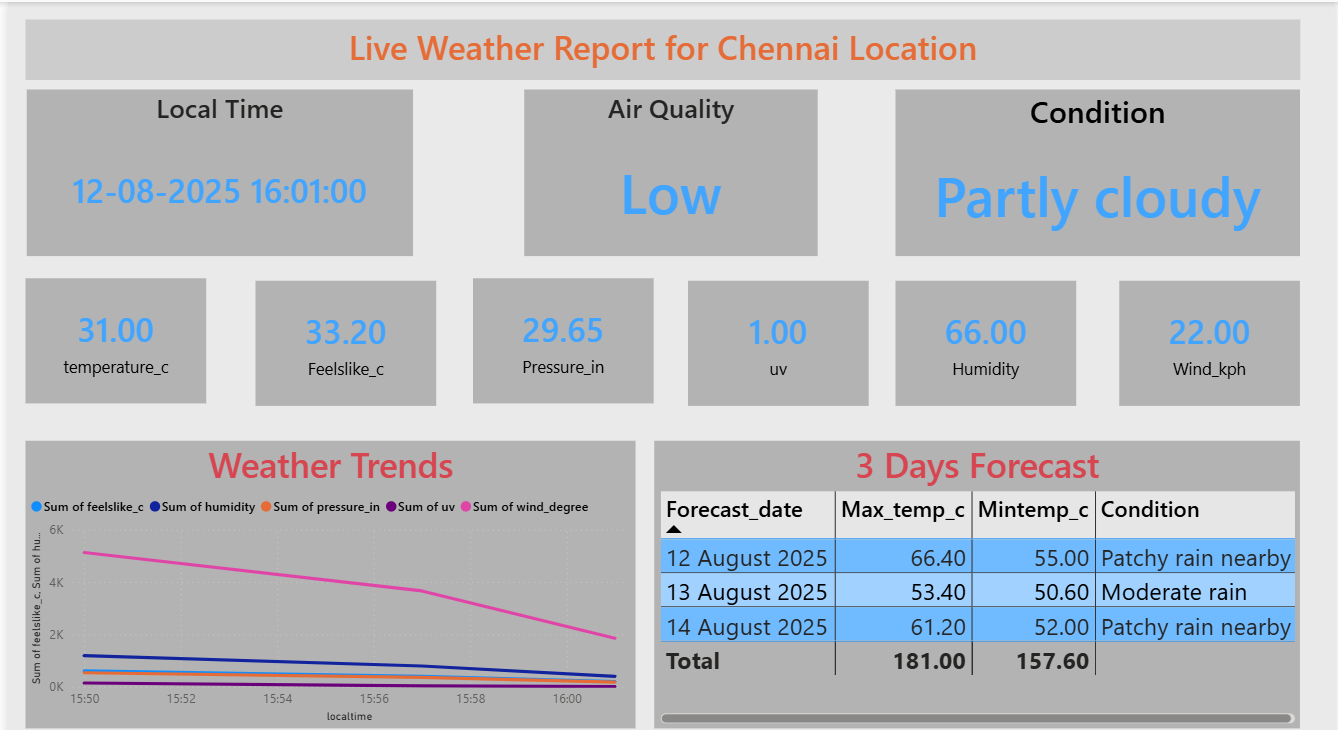

What the dashboard file says about the page in this screenshot:
{"tool":"powerbi","page":{"name":"Page 1","canvas":[1280,720],"ordinal":0},"visuals":[{"type":"card","title":"Local Time","fields":{"Values":["Min(Latest Data.localtime)"]},"box":[17.9,85,372.9,161.1],"z":0},{"type":"card","title":"Air Quality","fields":{"Values":["Min(gold_data.Air_quality)"]},"box":[498.2,85,283.4,161.1],"z":1000},{"type":"card","title":"Local Time","fields":{"Values":["Avg(Latest Data.temperature_c)"]},"box":[17.3,266.9,174.6,121.2],"z":2000},{"type":"card","title":"Local Time","fields":{"Values":["Avg(Latest Data.feelslike_c)"]},"box":[238.6,268.5,174.5,120.8],"z":3000},{"type":"card","title":"Local Time","fields":{"Values":["Avg(Latest Data.pressure_in)"]},"box":[448.9,267,174.5,120.8],"z":4000},{"type":"card","title":"Local Time","fields":{"Values":["Avg(Latest Data.uv)"]},"box":[656.3,268.5,174.5,120.8],"z":5000},{"type":"card","title":"Local Time","fields":{"Values":["Avg(Latest Data.humidity)"]},"box":[856.1,268.5,174.5,120.8],"z":6000},{"type":"card","title":"Local Time","fields":{"Values":["Avg(Latest Data.wind_kph)"]},"box":[1072.4,268.5,174.5,120.8],"z":7000},{"type":"lineChart","title":"Weather Trends","fields":{"Y":["Sum(gold_data.feelslike_c)","Sum(gold_data.humidity)","Sum(gold_data.pressure_in)","Sum(gold_data.uv)","Sum(gold_data.wind_degree)"],"Category":["gold_data.localtime"]},"box":[16.4,423.6,589.1,277.4],"z":8000},{"type":"tableEx","title":"3 Days Forecast","fields":{"Values":["Latest Data.forecast_date","Sum(Latest Data.forecast_maxtemp_c)","Sum(Latest Data.forecast_mintemp_c)","Latest Data.forecast_condition"]},"box":[623.5,423.6,623.5,277.4],"z":9000},{"type":"card","title":"Condition","fields":{"Values":["Min(Latest Data.condition_text)"]},"box":[856.1,85,390.8,161.1],"z":11000},{"type":"textbox","box":[16.4,16.4,1230.5,58.2],"z":11001}]}

Visuals, with their boxes in screenshot pixels (x1, y1, x2, y2):
"Local Time" card: BBox(22, 88, 410, 256)
"Air Quality" card: BBox(521, 88, 816, 256)
"Local Time" card: BBox(21, 277, 203, 403)
"Local Time" card: BBox(251, 279, 433, 405)
"Local Time" card: BBox(470, 277, 651, 403)
"Local Time" card: BBox(685, 279, 867, 405)
"Local Time" card: BBox(893, 279, 1074, 405)
"Local Time" card: BBox(1118, 279, 1299, 405)
"Weather Trends" lineChart: BBox(21, 440, 633, 728)
"3 Days Forecast" tableEx: BBox(651, 440, 1299, 728)
"Condition" card: BBox(893, 88, 1299, 256)
textbox: BBox(21, 17, 1299, 78)
